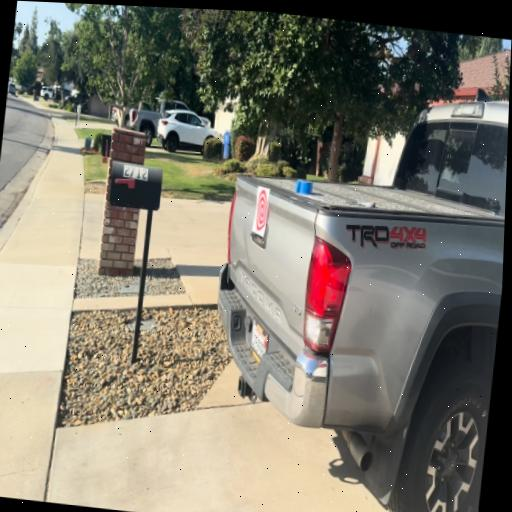bullseye: (252, 187, 270, 238)
